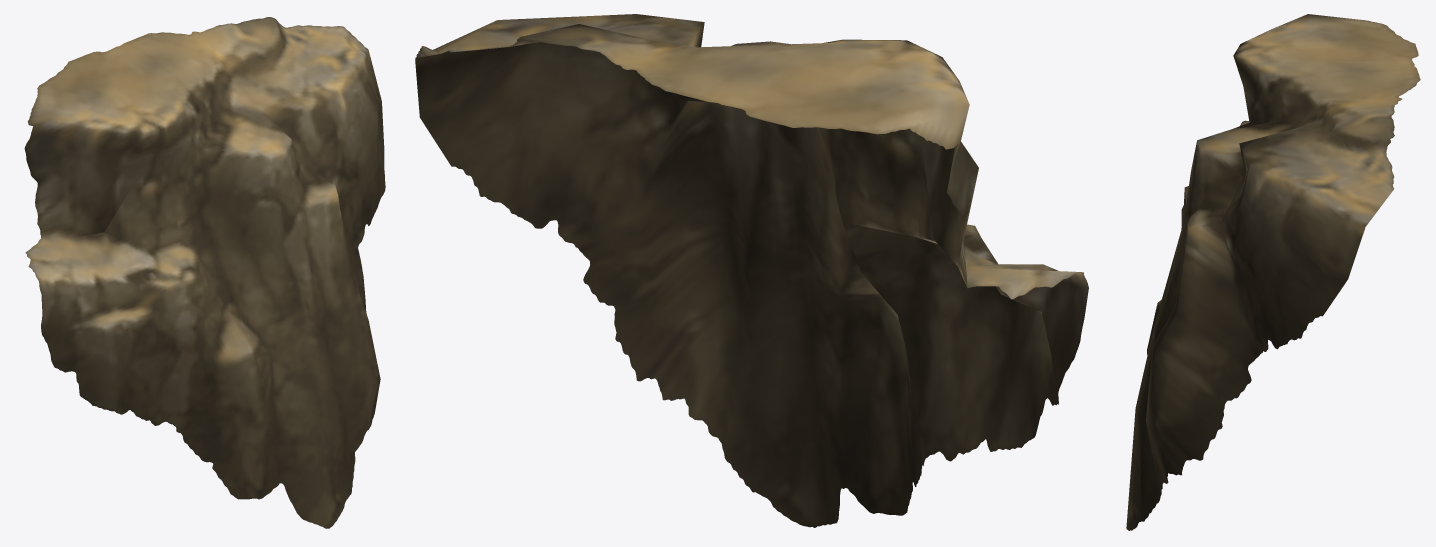
File: xssm_rock_2_02.FBX
The picture shows the model from 3 angles, left to right: view 1: azimuth 30°, elevation 25°; view 2: azimuth 150°, elevation 25°; view 3: azimuth 270°, elevation 25°; orthographic projection. The views are drawn at different scales.
Visible parts, largest first — view 1: xssm_rock_2_02; view 2: xssm_rock_2_02; view 3: xssm_rock_2_02.
Part boxes in pixels (x1,y1,x2,y2): xssm_rock_2_02: [24, 17, 385, 528]; xssm_rock_2_02: [415, 14, 1088, 527]; xssm_rock_2_02: [1126, 14, 1420, 530].
Bounding box in the file's own units: 329 × 321 × 198.
